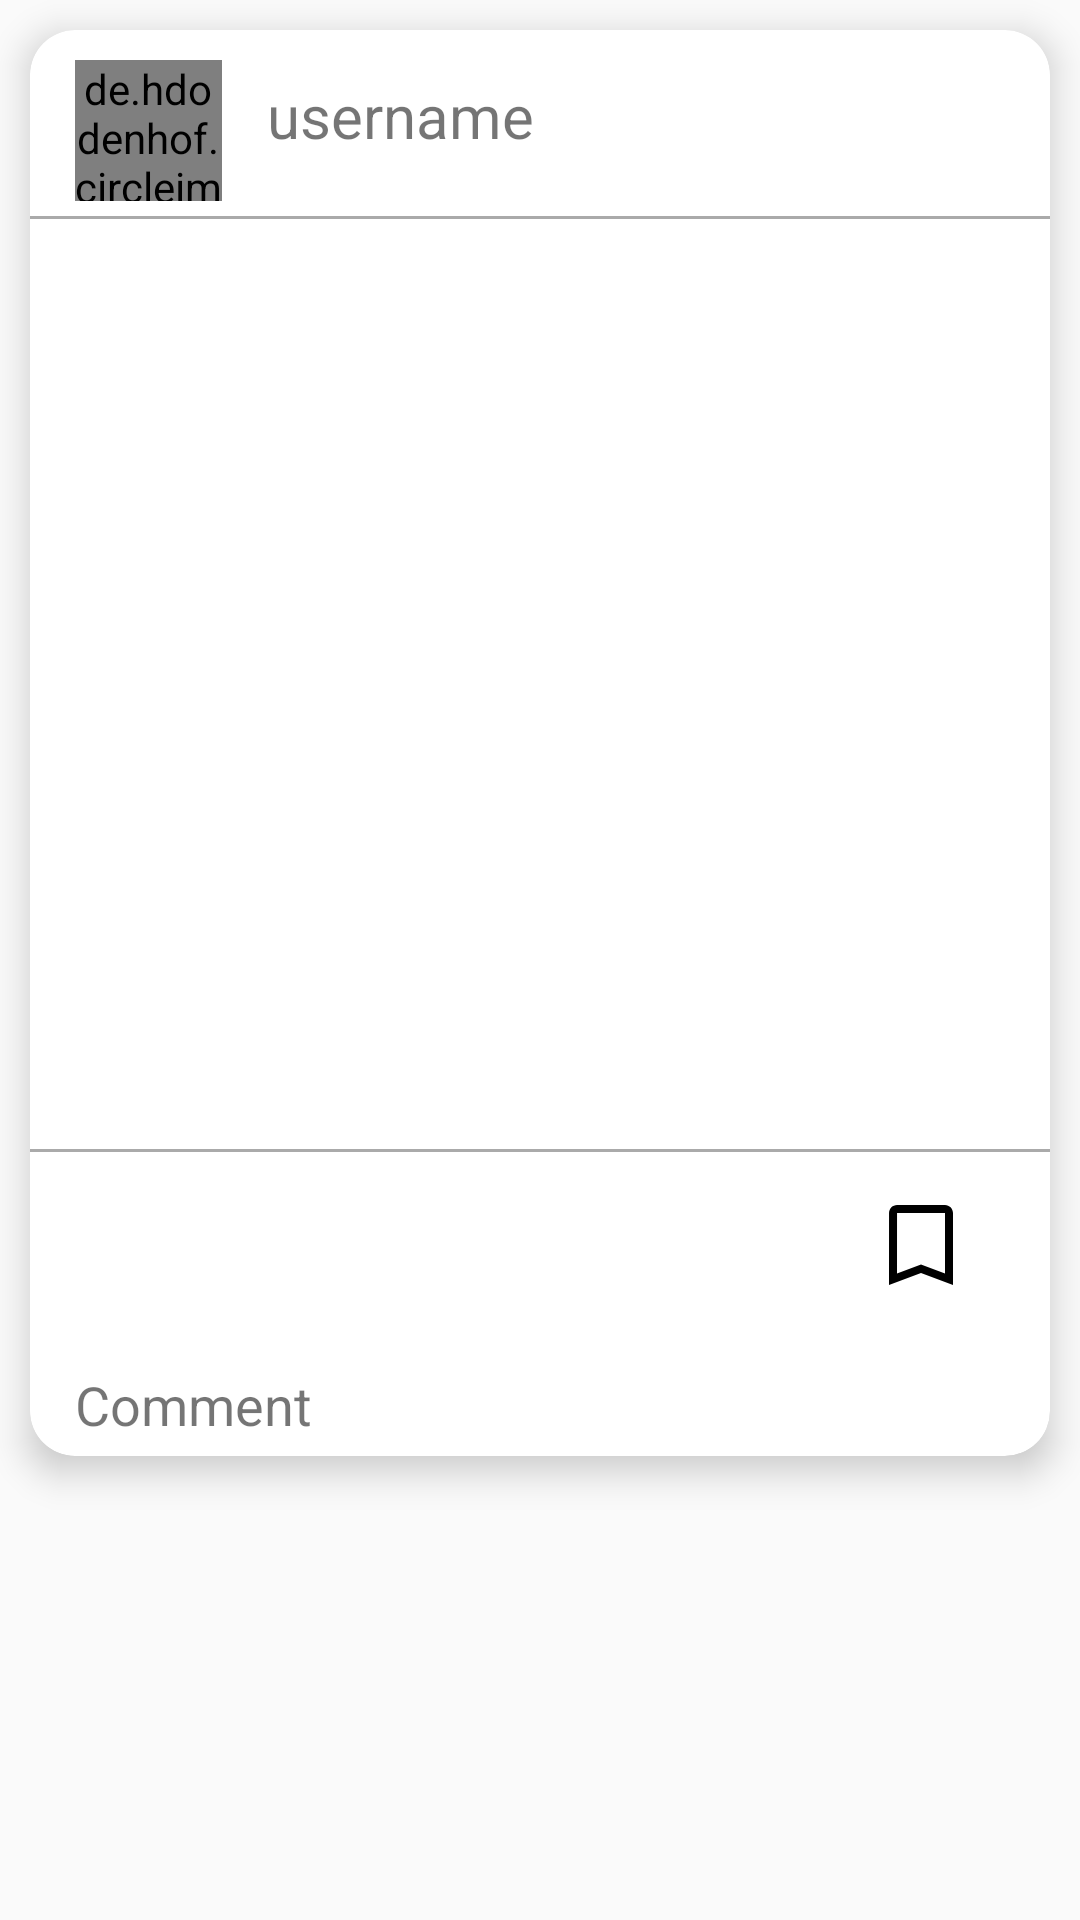

Screen size 1080px×1920px. Icon name, then its center in pixels as (x,y):
save flag: (921,1245)
